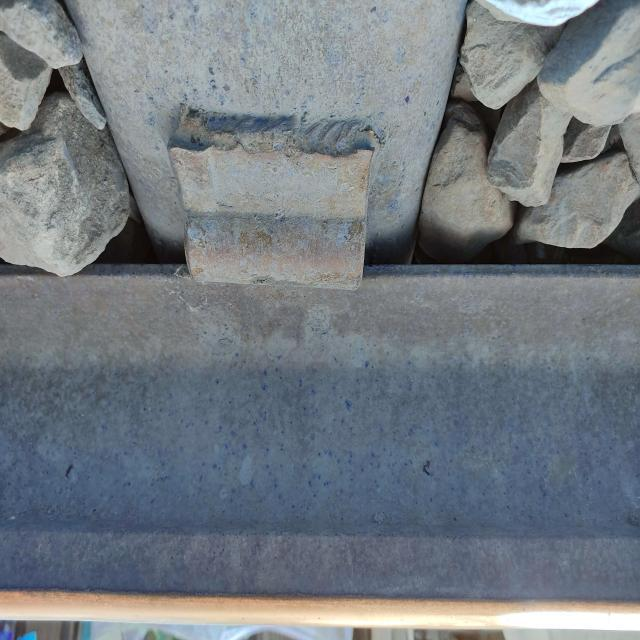Missing Fastener: (121, 62, 419, 421)
